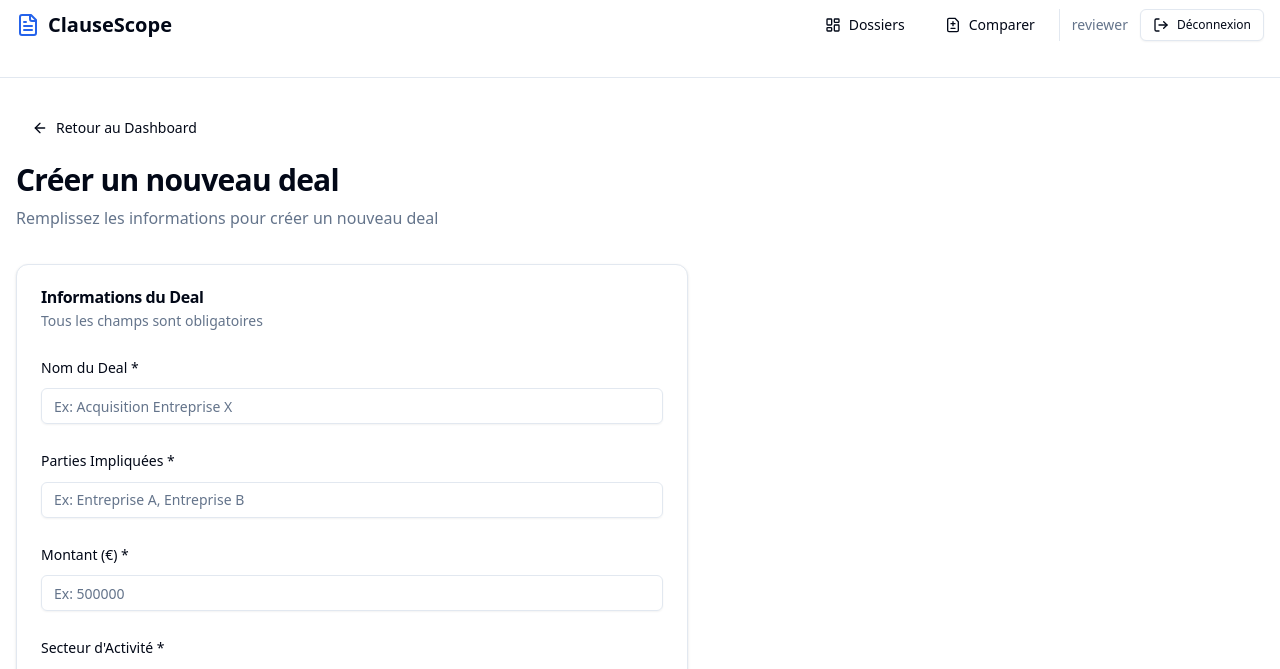
Scenario: CreateDealPage › should show validation error when parties is empty
Step 1. Type "Test Deal" into the field labelled "Nom du Deal *" → (352, 406), box [41, 388, 663, 424]
(page scrolled)
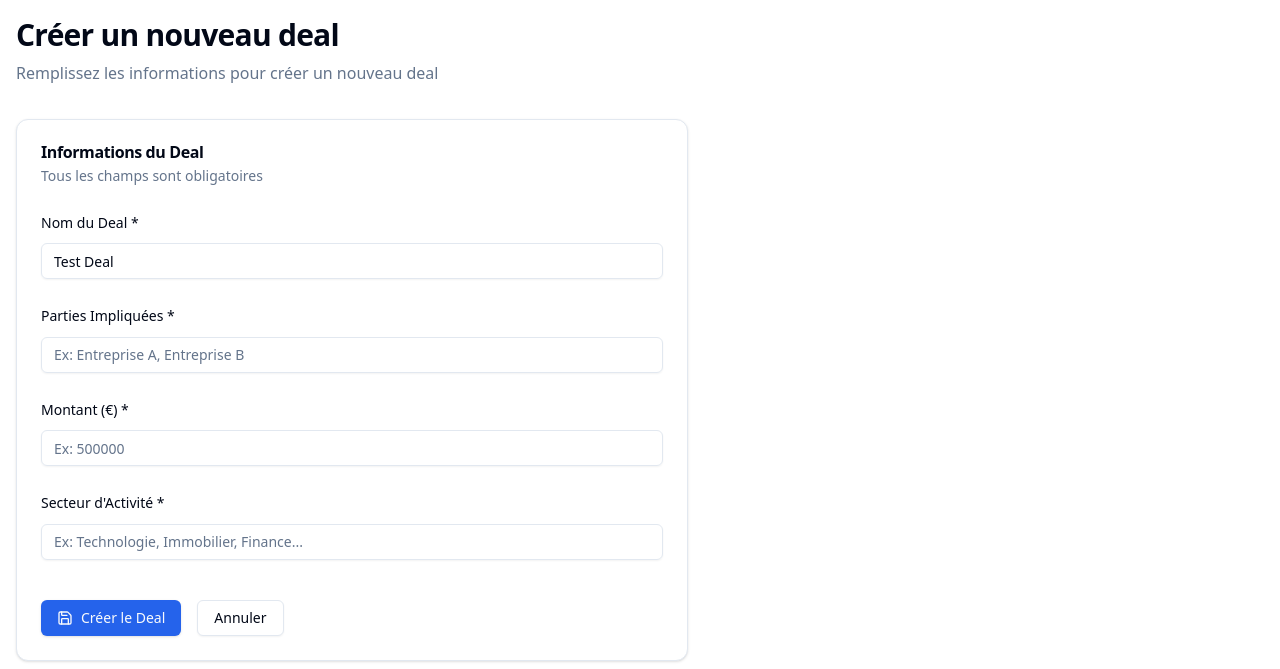
Step 2. Click the button "Créer le Deal" → (111, 618), box [41, 600, 181, 636]
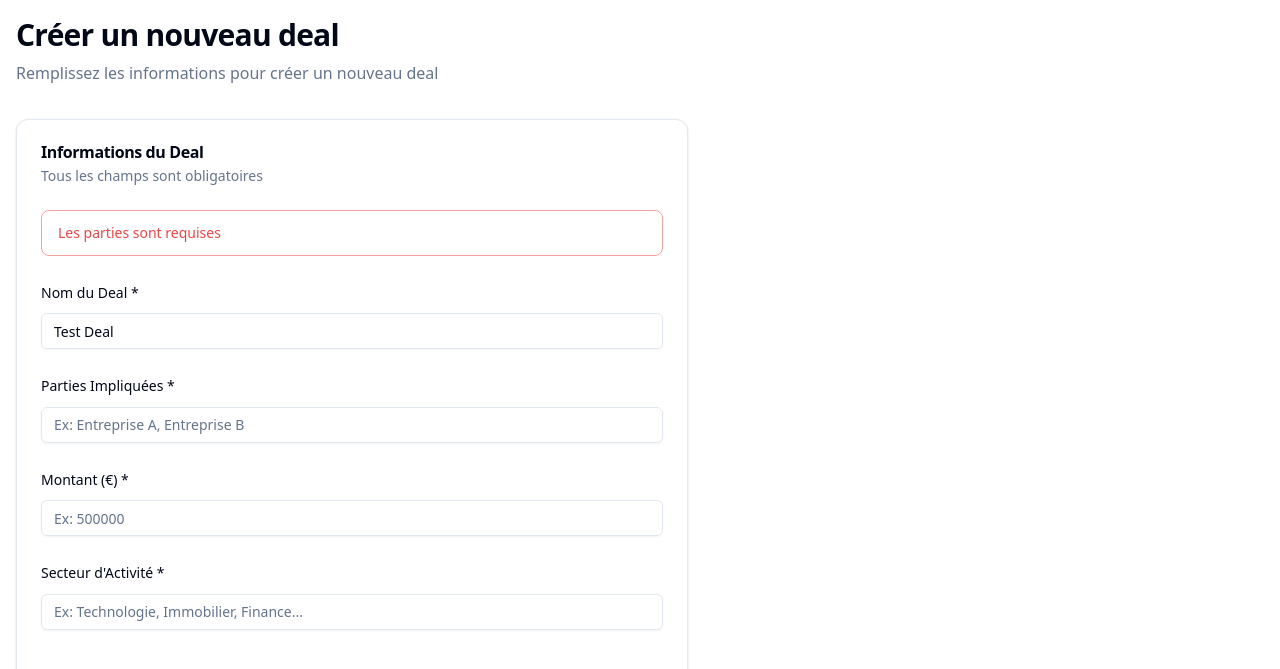
Check: the text "Les parties sont requises" is shown, box [58, 223, 221, 242]
